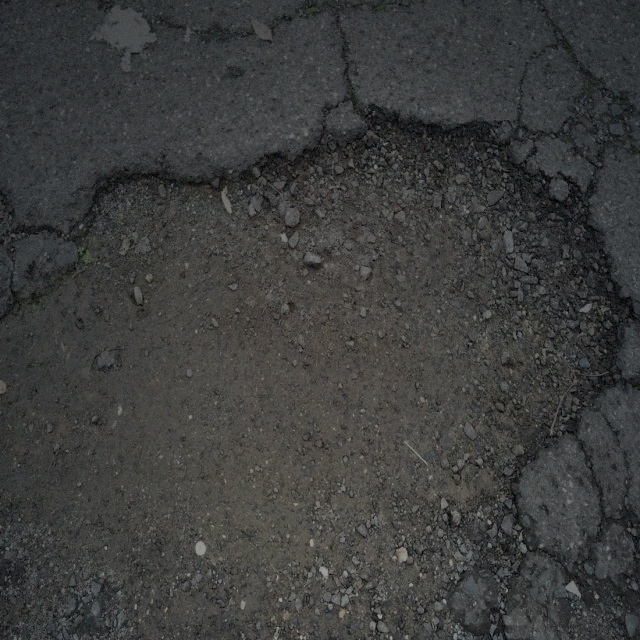pothole: (14, 88, 628, 599)
